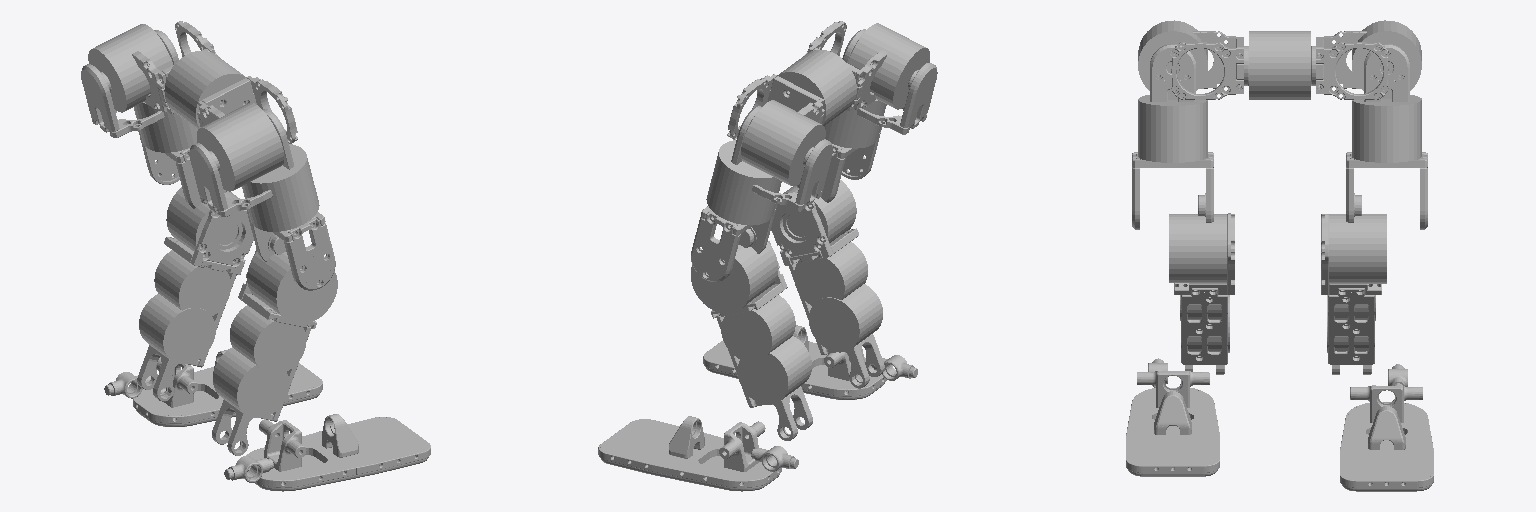
robot.urdf — pi_12dof_release_v1:
<?xml version="1.0" encoding="utf-8"?>
<robot name="pi_12dof_release_v1">
	<mujoco>
		<compiler meshdir="../meshes/" balanceinertia="true" discardvisual="false" />
	</mujoco>
	<link name="base_link">
		<inertial>
			<origin xyz="0.00242324 -5.699E-05 0.04030078" rpy="0 0 0" />
			<mass value="2.1609" />
			<inertia ixx="0.00900968" ixy="-2.533E-05" ixz="-0.00013112" iyy="0.00978166" iyz="2E-07" izz="0.00416554" />
		</inertial>
		<visual>
			<origin xyz="0 0 0" rpy="0 0 0" />
			<geometry>
				<!-- <box size="0.1 0.1 0.1" /> -->
				<mesh filename="../meshes/baselink_1.STL" />
			</geometry>
			<material name="">
				<color rgba="1 1 1 1" />
			</material>
		</visual>
		<collision>
			<origin xyz="0 0 0.08" rpy="0 0 0" />
			<geometry>
				<box size="0.17 0.15 0.15" />
				<!-- <mesh filename="../meshes/base_link.STL" /> -->
			</geometry>
		</collision>
	</link>
<!-- right leg -->
	<link name="r_hip_pitch_link">
		<inertial>
			<origin xyz="0.00089428 -0.05527744 -0.00027276" rpy="0 0 0" />
			<mass value="0.36999771" />
			<inertia ixx="8.307E-05" ixy="2E-07" ixz="-5E-08" iyy="9.81E-05" iyz="-7E-07" izz="0.0001085" />
		</inertial>
		<visual>
			<origin xyz="0 0 0" rpy="0 0 0" />
			<geometry>
				<mesh filename="../meshes/r_hip_pitch_link.STL" />
			</geometry>
			<material name="">
				<color rgba="0.75294 0.75294 0.75294 1" />
			</material>
		</visual>
		<collision>
			<origin xyz="0 0 0" rpy="0 0 0" />
			<geometry>
				<box size="0.001 0.001 0.001" />
				<!-- <mesh filename="../meshes/r_hip_pitch_link.STL" /> -->
			</geometry>
		</collision>
	</link>
	<joint name="r_hip_pitch_joint" type="revolute">
		<origin xyz="-5.1979E-05 -0.0233 -0.033" rpy="0 -0.25 0" />
		<parent link="base_link" />
		<child link="r_hip_pitch_link" />
		<axis xyz="0 1 0" />
		<limit lower="-1.25" upper="1.75" effort="21" velocity="4" />
	</joint>
	<link name="r_hip_roll_link">
		<inertial>
			<origin xyz="-0.00180153 0.00025956 -0.0608194" rpy="0 0 0" />
			<mass value="0.38851552" />
			<inertia ixx="0.00027042" ixy="3.9E-07" ixz="3.312E-05" iyy="0.0003342" iyz="8.7E-07" izz="0.00013617" />
		</inertial>
		<visual>
			<origin xyz="0 0 0" rpy="0 0 0" />
			<geometry>
				<mesh filename="../meshes/r_hip_roll_link.STL" />
			</geometry>
			<material name="">
				<color rgba="0.75294 0.75294 0.75294 1" />
			</material>
		</visual>
		<collision>
			<origin xyz="0 0 0" rpy="0 0 0" />
			<geometry>
				<box size="0.001 0.001 0.001" />
				<!-- <mesh filename="../meshes/r_hip_roll_link.STL" /> -->
			</geometry>
		</collision>
	</link>
	<joint name="r_hip_roll_joint" type="revolute">
		<origin xyz="0.00025 -0.0568 0" rpy="0 0 0" />
		<parent link="r_hip_pitch_link" />
		<child link="r_hip_roll_link" />
		<axis xyz="1 0 0" />
		<limit lower="-0.5" upper="0.12" effort="21" velocity="4" />
	</joint>
	<link name="r_thigh_link">
		<inertial>
			<origin xyz="0 0.00116854 -0.04755896" rpy="0 0 0" />
			<mass value="0.11270879" />
			<inertia ixx="0.00012496" ixy="0" ixz="0" iyy="5.82E-05" iyz="3.19E-06" izz="9.438E-05" />
		</inertial>
		<visual>
			<origin xyz="0 0 0" rpy="0 0 0" />
			<geometry>
				<mesh filename="../meshes/r_thigh_link.STL" />
			</geometry>
			<material name="">
				<color rgba="0.75294 0.75294 0.75294 1" />
			</material>
		</visual>
		<collision>
			<origin xyz="0 0 0" rpy="0 0 0" />
			<geometry>
				<box size="0.001 0.001 0.001" />
				<!-- <mesh filename="../meshes/r_thigh_link.STL" /> -->
			</geometry>
		</collision>
	</link>
	<joint name="r_thigh_joint" type="revolute">
		<origin xyz="-0.00025 0 -0.06925" rpy="0 0 0" />
		<parent link="r_hip_roll_link" />
		<child link="r_thigh_link" />
		<axis xyz="0 0 1" />
		<limit lower="-0.6" upper="0.3" effort="21" velocity="4" />
	</joint>
	<link name="r_calf_link">
		<inertial>
			<origin xyz="-0.00026627 -0.00116537 -0.06971210" rpy="0 0 0" />
			<mass value="0.81374212" />
			<inertia ixx="0.00352123" ixy="0.00000020" ixz="-0.00000072" iyy="0.00349946" iyz="-0.00002072" izz="0.00017468" />
		</inertial>
		<visual>
			<origin xyz="0 0 0" rpy="0 0 0" />
			<geometry>
				<mesh filename="../meshes/r_calf_link.STL" />
			</geometry>
			<material name="">
				<color rgba="0.75294 0.75294 0.75294 1" />
			</material>
		</visual>
		<collision>
			<origin xyz="0 0 0" rpy="0 0 0" />
			<geometry>
				<box size="0.001 0.001 0.001" />
				<!-- <mesh filename="../meshes/r_calf_link.STL" /> -->
			</geometry>
		</collision>
	</link>
	<joint name="r_calf_joint" type="revolute">
		<origin xyz="0 -0.0027 -0.07025" rpy="0 0.65 0" />
		<parent link="r_thigh_link" />
		<child link="r_calf_link" />
		<axis xyz="0 1 0" />
		<limit lower="-0.65" upper="1.65" effort="21" velocity="4" />
	</joint>
	<link name="r_ankle_pitch_link">
		<inertial>
			<origin xyz="0.00467932 0.00347699 0" rpy="0 0 0" />
			<mass value="0.1759244" />
			<inertia ixx="0.00011981" ixy="6.4E-07" ixz="0" iyy="0.00022179" iyz="0" izz="0.00030766" />
		</inertial>
		<visual>
			<origin xyz="0 0 0" rpy="0 0 0" />
			<geometry>
				<mesh filename="../meshes/r_ankle_pitch_link.STL" />
			</geometry>
			<material name="">
				<color rgba="0.75294 0.75294 0.75294 1" />
			</material>
		</visual>
		<collision>
			<origin xyz="0 0 0" rpy="0 0 0" />
			<geometry>
				<box size="0.078 0.08 0.05" />
				<!-- <mesh filename="../meshes/r_ankle_pitch_link.STL" /> -->
			</geometry>
		</collision>
	</link>
	<joint name="r_ankle_pitch_joint" type="revolute">
		<origin xyz="0 0 -0.14" rpy="0 -0.4 0" />
		<parent link="r_calf_link" />
		<child link="r_ankle_pitch_link" />
		<axis xyz="0 1 0" />
		<limit lower="-0.5" upper="1.3" effort="21" velocity="4" />
	</joint>
	<link name="r_ankle_roll_link">
		<inertial>
			<origin xyz="-0.02383679 0.00019256 -0.0144649" rpy="0 0 0" />
			<mass value="0.51868476" />
			<inertia ixx="0.0003308" ixy="-2.49E-06" ixz="-0.00018245" iyy="0.00113168" iyz="-1.06E-06" izz="0.00098381" />
		</inertial>
		<visual>
			<origin xyz="0 0 0" rpy="0 0 0" />
			<geometry>
				<mesh filename="../meshes/r_ankle_roll_link.STL" />
			</geometry>
			<material name="">
				<color rgba="0.75294 0.75294 0.75294 1" />
			</material>
		</visual>
		<collision>
			<origin xyz="0 0 0" rpy="0 0 0" />
			<geometry>
				<mesh filename="../meshes/r_ankle_roll_link.STL" />
			</geometry>
		</collision>
	</link>
	<joint name="r_ankle_roll_joint" type="revolute">
		<origin xyz="0.07525 0.0027 0" rpy="0 0 0" />
		<parent link="r_ankle_pitch_link" />
		<child link="r_ankle_roll_link" />
		<axis xyz="1 0 0" />
		<limit lower="-0.15" upper="0.15" effort="21" velocity="4" />
	</joint>
<!-- left leg -->
	<link name="l_hip_pitch_link">
		<inertial>
			<origin xyz="0.00086268 0.05441908 -0.00025859" rpy="0 0 0" />
			<mass value="0.38968624" />
			<inertia ixx="0.00010076" ixy="-4.2E-07" ixz="-4E-08" iyy="0.00010507" iyz="-3E-07" izz="0.00012834" />
		</inertial>
		<visual>
			<origin xyz="0 0 0" rpy="0 0 0" />
			<geometry>
				<mesh filename="../meshes/l_hip_pitch_link.STL" />
			</geometry>
			<material name="">
				<color rgba="0.75294 0.75294 0.75294 1" />
			</material>
		</visual>
		<collision>
			<origin xyz="0 0 0" rpy="0 0 0" />
			<geometry>
				<box size="0.001 0.001 0.001" />
				<!-- <mesh filename="../meshes/l_hip_pitch_link.STL" /> -->
			</geometry>
		</collision>
	</link>
	<joint name="l_hip_pitch_joint" type="revolute">
		<origin xyz="-5.1979E-05 0.0233 -0.033" rpy="0 -0.25 0" />
		<parent link="base_link" />
		<child link="l_hip_pitch_link" />
		<axis xyz="0 1 0" />
		<limit lower="-1.25" upper="1.75" effort="21" velocity="4" />
	</joint>
	<link name="l_hip_roll_link">
		<inertial>
			<origin xyz="-0.00207707 0.00026598 -0.0608194" rpy="0 0 0" />
			<mass value="0.38851552" />
			<inertia ixx="0.00027068" ixy="-7.6E-07" ixz="3.136E-05" iyy="0.0003332" iyz="8.8E-07" izz="0.00013543" />
		</inertial>
		<visual>
			<origin xyz="0 0 0" rpy="0 0 0" />
			<geometry>
				<mesh filename="../meshes/l_hip_roll_link.STL" />
			</geometry>
			<material name="">
				<color rgba="0.75294 0.75294 0.75294 1" />
			</material>
		</visual>
		<collision>
			<origin xyz="0 0 0" rpy="0 0 0" />
			<geometry>
				<box size="0.001 0.001 0.001" />
				<!-- <mesh filename="../meshes/l_hip_roll_link.STL" /> -->
			</geometry>
		</collision>
	</link>
	<joint name="l_hip_roll_joint" type="revolute">
		<origin xyz="0 0.0568 0" rpy="0 0 0" />
		<parent link="l_hip_pitch_link" />
		<child link="l_hip_roll_link" />
		<axis xyz="1 0 0" />
		<limit lower="-0.12" upper="0.5" effort="21" velocity="4" />
	</joint>
	<link name="l_thigh_link">
		<inertial>
			<origin xyz="0 -0.00115822 -0.04755896" rpy="0 0 0" />
			<mass value="0.11270879" />
			<inertia ixx="0.00012497" ixy="0" ixz="0" iyy="5.82E-05" iyz="-3.21E-06" izz="9.438E-05" />
		</inertial>
		<visual>
			<origin xyz="0 0 0" rpy="0 0 0" />
			<geometry>
				<mesh filename="../meshes/l_thigh_link.STL" />
			</geometry>
			<material name="">
				<color rgba="0.75294 0.75294 0.75294 1" />
			</material>
		</visual>
		<collision>
			<origin xyz="0 0 0" rpy="0 0 0" />
			<geometry>
				<box size="0.001 0.001 0.001" />
				<!-- <mesh filename="../meshes/l_thigh_link.STL" /> -->
			</geometry>
		</collision>
	</link>
	<joint name="l_thigh_joint" type="revolute">
		<origin xyz="0 0 -0.06925" rpy="0 0 0" />
		<parent link="l_hip_roll_link" />
		<child link="l_thigh_link" />
		<axis xyz="0 0 1" />
		<limit lower="-0.3" upper="0.6" effort="21" velocity="4" />
	</joint>
	<link name="l_calf_link">
		<inertial>
			<origin xyz="0.00026627 0.00386537 -0.06971210" rpy="0 0 0" />
			<mass value="0.81374212" />
			<inertia ixx="0.00352123" ixy="0.00000020" ixz="0.00000072" iyy="0.00349946" iyz="0.00002072" izz="0.00017468" />
		</inertial>
		<visual>
			<origin xyz="0 0 0" rpy="0 0 0" />
			<geometry>
				<mesh filename="../meshes/l_calf_link.STL" />
			</geometry>
			<material name="">
				<color rgba="0.75294 0.75294 0.75294 1" />
			</material>
		</visual>
		<collision>
			<origin xyz="0 0 0" rpy="0 0 0" />
			<geometry>
				<box size="0.001 0.001 0.001" />
				<!-- <mesh filename="../meshes/l_calf_link.STL" /> -->
			</geometry>
		</collision>
	</link>
	<joint name="l_calf_joint" type="revolute">
		<origin xyz="0 0 -0.07025" rpy="0 0.65 0" />
		<parent link="l_thigh_link" />
		<child link="l_calf_link" />
		<axis xyz="0 1 0" />
		<limit lower="-0.65" upper="1.65" effort="21" velocity="4" />
	</joint>
	<link name="l_ankle_pitch_link">
		<inertial>
			<origin xyz="0.00467932 -0.00077699 0" rpy="0 0 0" />
			<mass value="0.1759244" />
			<inertia ixx="0.00011981" ixy="-6.4E-07" ixz="0" iyy="0.00022179" iyz="0" izz="0.00030766" />
		</inertial>
		<visual>
			<origin xyz="0 0 0" rpy="0 0 0" />
			<geometry>
				<mesh filename="../meshes/l_ankle_pitch_link.STL" />
			</geometry>
			<material name="">
				<color rgba="0.75294 0.75294 0.75294 1" />
			</material>
		</visual>
		<collision>
			<origin xyz="0 0 0" rpy="0 0 0" />
			<geometry>
				<box size="0.078 0.08 0.05" />
				<!-- <mesh filename="../meshes/l_ankle_pitch_link.STL" /> -->
			</geometry>
		</collision>
	</link>
	<joint name="l_ankle_pitch_joint" type="revolute">
		<origin xyz="0 0 -0.14" rpy="0 -0.4 0" />
		<parent link="l_calf_link" />
		<child link="l_ankle_pitch_link" />
		<axis xyz="0 1 0" />
		<limit lower="-0.5" upper="1.3" effort="21" velocity="4" />
	</joint>
	<link name="l_ankle_roll_link">
		<inertial>
			<origin xyz="-0.02383679 0.00019256 -0.0144649" rpy="0 0 0" />
			<mass value="0.51868476" />
			<inertia ixx="0.0003308" ixy="-2.49E-06" ixz="-0.00018245" iyy="0.00113168" iyz="-1.06E-06" izz="0.00098381" />
		</inertial>
		<visual>
			<origin xyz="0 0 0" rpy="0 0 0" />
			<geometry>
				<mesh filename="../meshes/l_ankle_roll_link.STL" />
			</geometry>
			<material name="">
				<color rgba="0.75294 0.75294 0.75294 1" />
			</material>
		</visual>
		<collision>
			<origin xyz="0 0 0" rpy="0 0 0" />
			<geometry>
				<mesh filename="../meshes/l_ankle_roll_link.STL" />
			</geometry>
		</collision>
	</link>
	<joint name="l_ankle_roll_joint" type="revolute">
		<origin xyz="0.07525 0 0" rpy="0 0 0" />
		<parent link="l_ankle_pitch_link" />
		<child link="l_ankle_roll_link" />
		<axis xyz="1 0 0" />
		<limit lower="-0.15" upper="0.15" effort="21" velocity="4" />
	</joint>
</robot>

--- What the picture shows (computed from the rendered views, not written in the file) ---
3 views of the same robot in one strip: view 1: azimuth 30°, elevation 25°; view 2: azimuth 150°, elevation 25°; view 3: azimuth 270°, elevation 25° (orthographic).
Model pi_12dof_release_v1 with 13 links and 12 joints (12 revolute), rooted at base_link, posed every joint at zero.
Links seen in each view (by area): view 1: l_calf_link, r_calf_link, r_ankle_roll_link, r_thigh_link, r_hip_roll_link, l_hip_roll_link, r_hip_pitch_link, l_ankle_roll_link, l_thigh_link, l_hip_pitch_link, r_ankle_pitch_link, l_ankle_pitch_link; view 2: r_calf_link, l_calf_link, l_ankle_roll_link, l_thigh_link, l_hip_roll_link, r_hip_roll_link, l_hip_pitch_link, r_ankle_roll_link, r_thigh_link, r_hip_pitch_link, l_ankle_pitch_link, r_ankle_pitch_link; view 3: r_calf_link, l_calf_link, l_ankle_roll_link, r_ankle_roll_link, r_hip_pitch_link, l_thigh_link, r_thigh_link, l_hip_pitch_link, r_hip_roll_link, l_hip_roll_link.
Link boxes in pixels (x1=…): l_calf_link: x1=137, y1=187, x2=253, y2=401; r_calf_link: x1=212, y1=249, x2=337, y2=455; r_ankle_roll_link: x1=246, y1=414, x2=430, y2=491; r_thigh_link: x1=242, y1=144, x2=335, y2=290; r_hip_roll_link: x1=189, y1=103, x2=293, y2=216; l_hip_roll_link: x1=81, y1=24, x2=178, y2=137; r_hip_pitch_link: x1=167, y1=52, x2=297, y2=143; l_ankle_roll_link: x1=133, y1=349, x2=322, y2=426; l_thigh_link: x1=134, y1=102, x2=226, y2=208; l_hip_pitch_link: x1=132, y1=21, x2=242, y2=128; r_ankle_pitch_link: x1=224, y1=456, x2=273, y2=482; l_ankle_pitch_link: x1=104, y1=372, x2=150, y2=398; r_calf_link: x1=771, y1=180, x2=884, y2=388; l_calf_link: x1=691, y1=241, x2=812, y2=440; l_ankle_roll_link: x1=598, y1=416, x2=781, y2=491; l_thigh_link: x1=691, y1=140, x2=781, y2=281; l_hip_roll_link: x1=731, y1=100, x2=832, y2=211; r_hip_roll_link: x1=842, y1=23, x2=937, y2=134; l_hip_pitch_link: x1=727, y1=51, x2=853, y2=139; r_ankle_roll_link: x1=703, y1=325, x2=886, y2=399; r_thigh_link: x1=797, y1=99, x2=886, y2=202; r_hip_pitch_link: x1=793, y1=21, x2=887, y2=123; l_ankle_pitch_link: x1=751, y1=446, x2=798, y2=471; r_ankle_pitch_link: x1=871, y1=355, x2=917, y2=380; r_calf_link: x1=1169, y1=213, x2=1234, y2=374; l_calf_link: x1=1321, y1=214, x2=1386, y2=374; l_ankle_roll_link: x1=1340, y1=385, x2=1433, y2=491; r_ankle_roll_link: x1=1126, y1=371, x2=1219, y2=476; r_hip_pitch_link: x1=1171, y1=31, x2=1306, y2=99; l_thigh_link: x1=1346, y1=95, x2=1427, y2=229; r_thigh_link: x1=1132, y1=95, x2=1213, y2=229; l_hip_pitch_link: x1=1253, y1=31, x2=1388, y2=99; r_hip_roll_link: x1=1138, y1=20, x2=1207, y2=101; l_hip_roll_link: x1=1352, y1=20, x2=1421, y2=101.
Bounding box of the posed robot: 0.186 × 0.2312 × 0.322 m (x, y, z).
12 mesh visuals loaded from 13 distinct referenced files (12 binary STL); not drawn: 1 (reference not matched to a file when rendering).